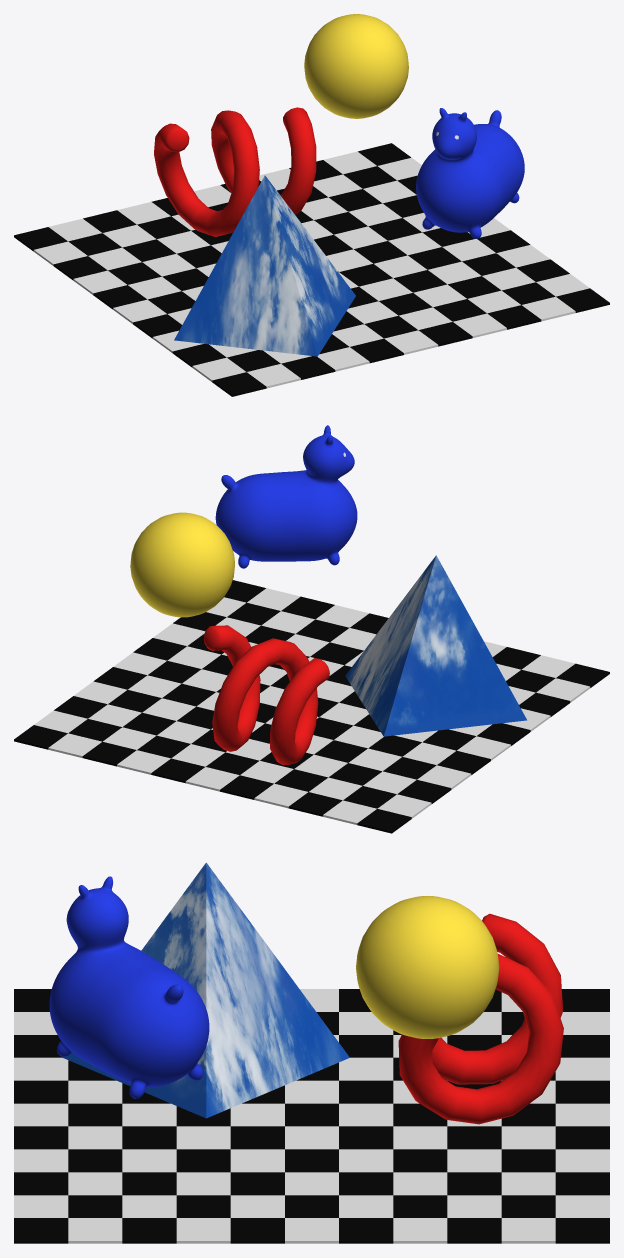
3 views of the same model, one above another, from view 1: azimuth 30°, elevation 25°; view 2: azimuth 150°, elevation 25°; view 3: azimuth 270°, elevation 25° (orthographic). The views are drawn at different scales.
Visible parts, largest first — view 1: Grid, Cone, bouncy, Helix.001, Sphere; view 2: Grid, Cone, bouncy, Helix.001, Sphere; view 3: Grid, Cone, bouncy, Helix.001, Sphere.
Part boxes in pixels (x1,y1,x2,y2): Grid: [14, 143, 609, 396]; Cone: [174, 175, 355, 356]; bouncy: [416, 108, 524, 238]; Helix.001: [154, 107, 316, 236]; Sphere: [304, 14, 408, 118]; Grid: [14, 580, 609, 833]; Cone: [345, 555, 526, 736]; bouncy: [215, 425, 357, 568]; Helix.001: [203, 625, 329, 764]; Sphere: [130, 512, 234, 617]; Grid: [14, 989, 609, 1243]; Cone: [62, 862, 349, 1118]; bouncy: [49, 876, 209, 1098]; Helix.001: [398, 913, 563, 1124]; Sphere: [356, 896, 499, 1038].
Bounding box in the file's own units: 10 × 5.15 × 10.
Materials: 7 (1 with a texture image).
